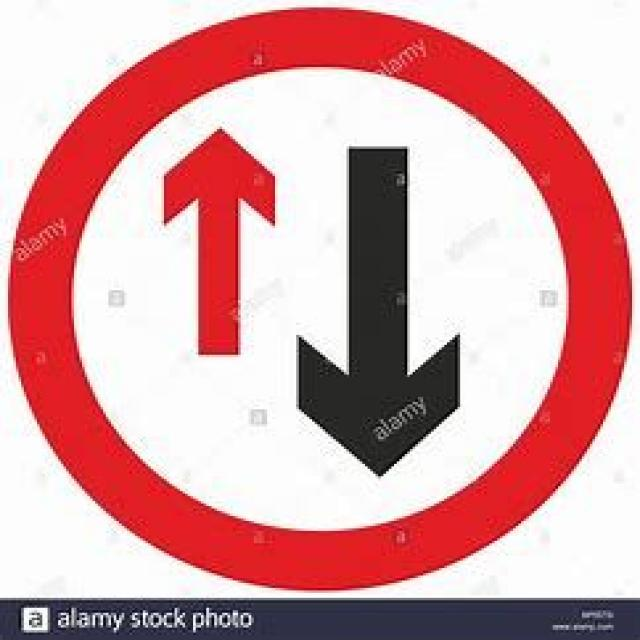PRIORITY_FOR_ONCOMING_VEHICLES: (2, 5, 630, 590)
